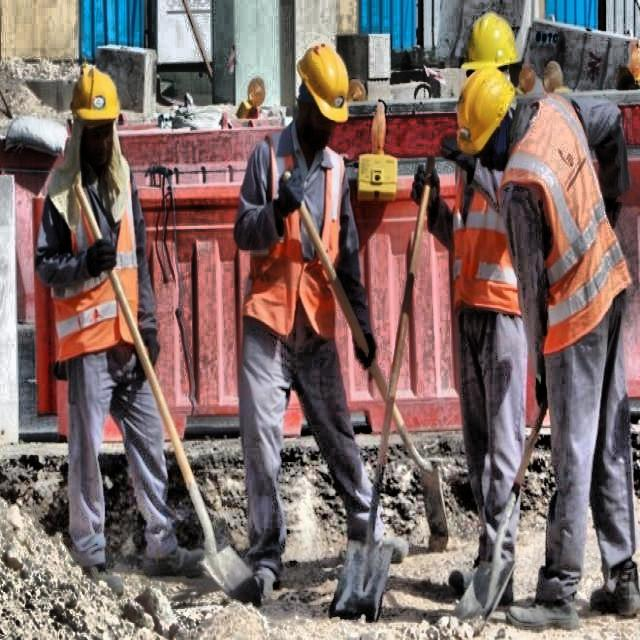person: (447, 10, 640, 629), (34, 56, 188, 582), (233, 38, 369, 603)
